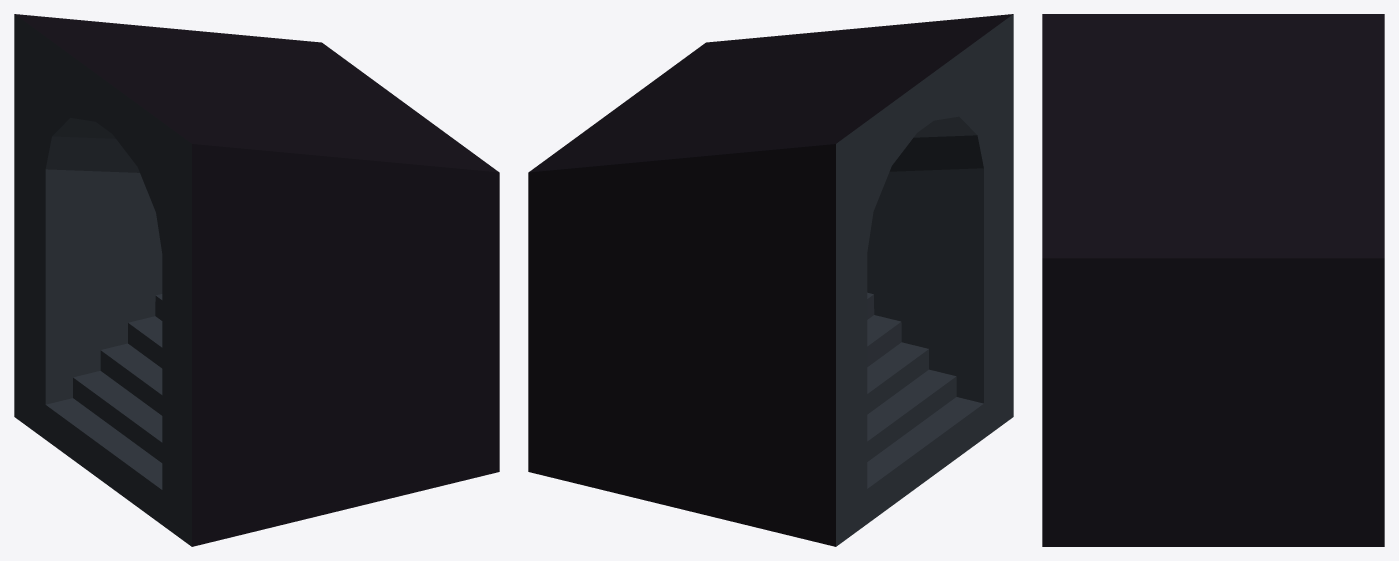
Rendered from exit.fbx.
3 renders of one model, left to right at view 1: azimuth 30°, elevation 25°; view 2: azimuth 150°, elevation 25°; view 3: azimuth 270°, elevation 25°, orthographic. The views are drawn at different scales.
Parts seen in each view (by area): view 1: Cube.001; view 2: Cube.001; view 3: Cube.001.
Part boxes in pixels (x1=…): Cube.001: x1=14, y1=14, x2=499, y2=546; Cube.001: x1=528, y1=14, x2=1013, y2=546; Cube.001: x1=1042, y1=14, x2=1384, y2=546.
Bounding box in the file's own units: 200 × 250 × 200.
Materials: 1 (1 with a texture image).
